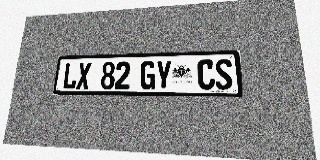2: (114, 61, 131, 90)
8: (100, 62, 116, 89)
C: (197, 59, 215, 90)
G: (140, 61, 156, 90)
L: (62, 63, 78, 89)
S: (214, 59, 233, 90)
X: (76, 62, 92, 89)
Y: (155, 60, 171, 90)
